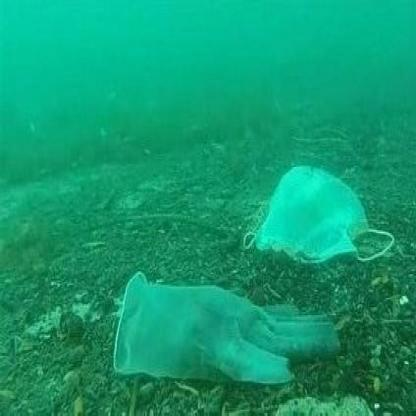Mask: (242, 162, 396, 266)
glove: (112, 271, 341, 386)
